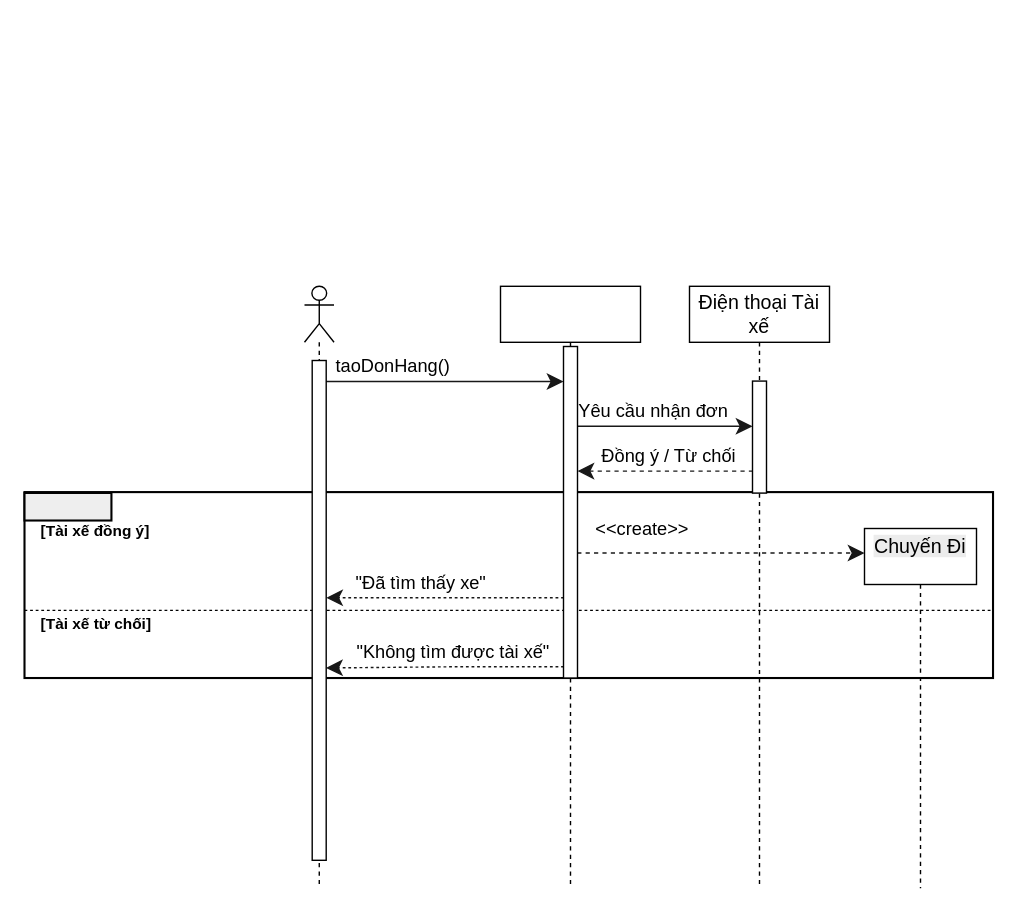
Some shapes in this 1021 by 913 pixel diagram are drawn without their labels. Here are the shapes that lost their labels. From the top down, the box of each, then its label:
(23, 491, 112, 521): alt
(499, 285, 640, 888): App Điều Phối
